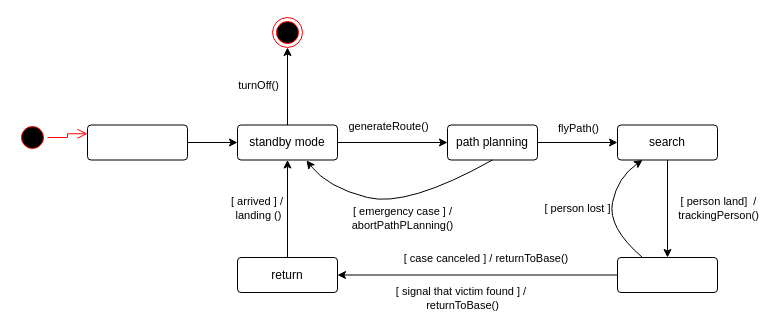
This 776x329 diagram has some shape labels left out. Each missing label, with the centre of its shape:
on drone-pad: the point at 137,142
on track: the point at 667,274
